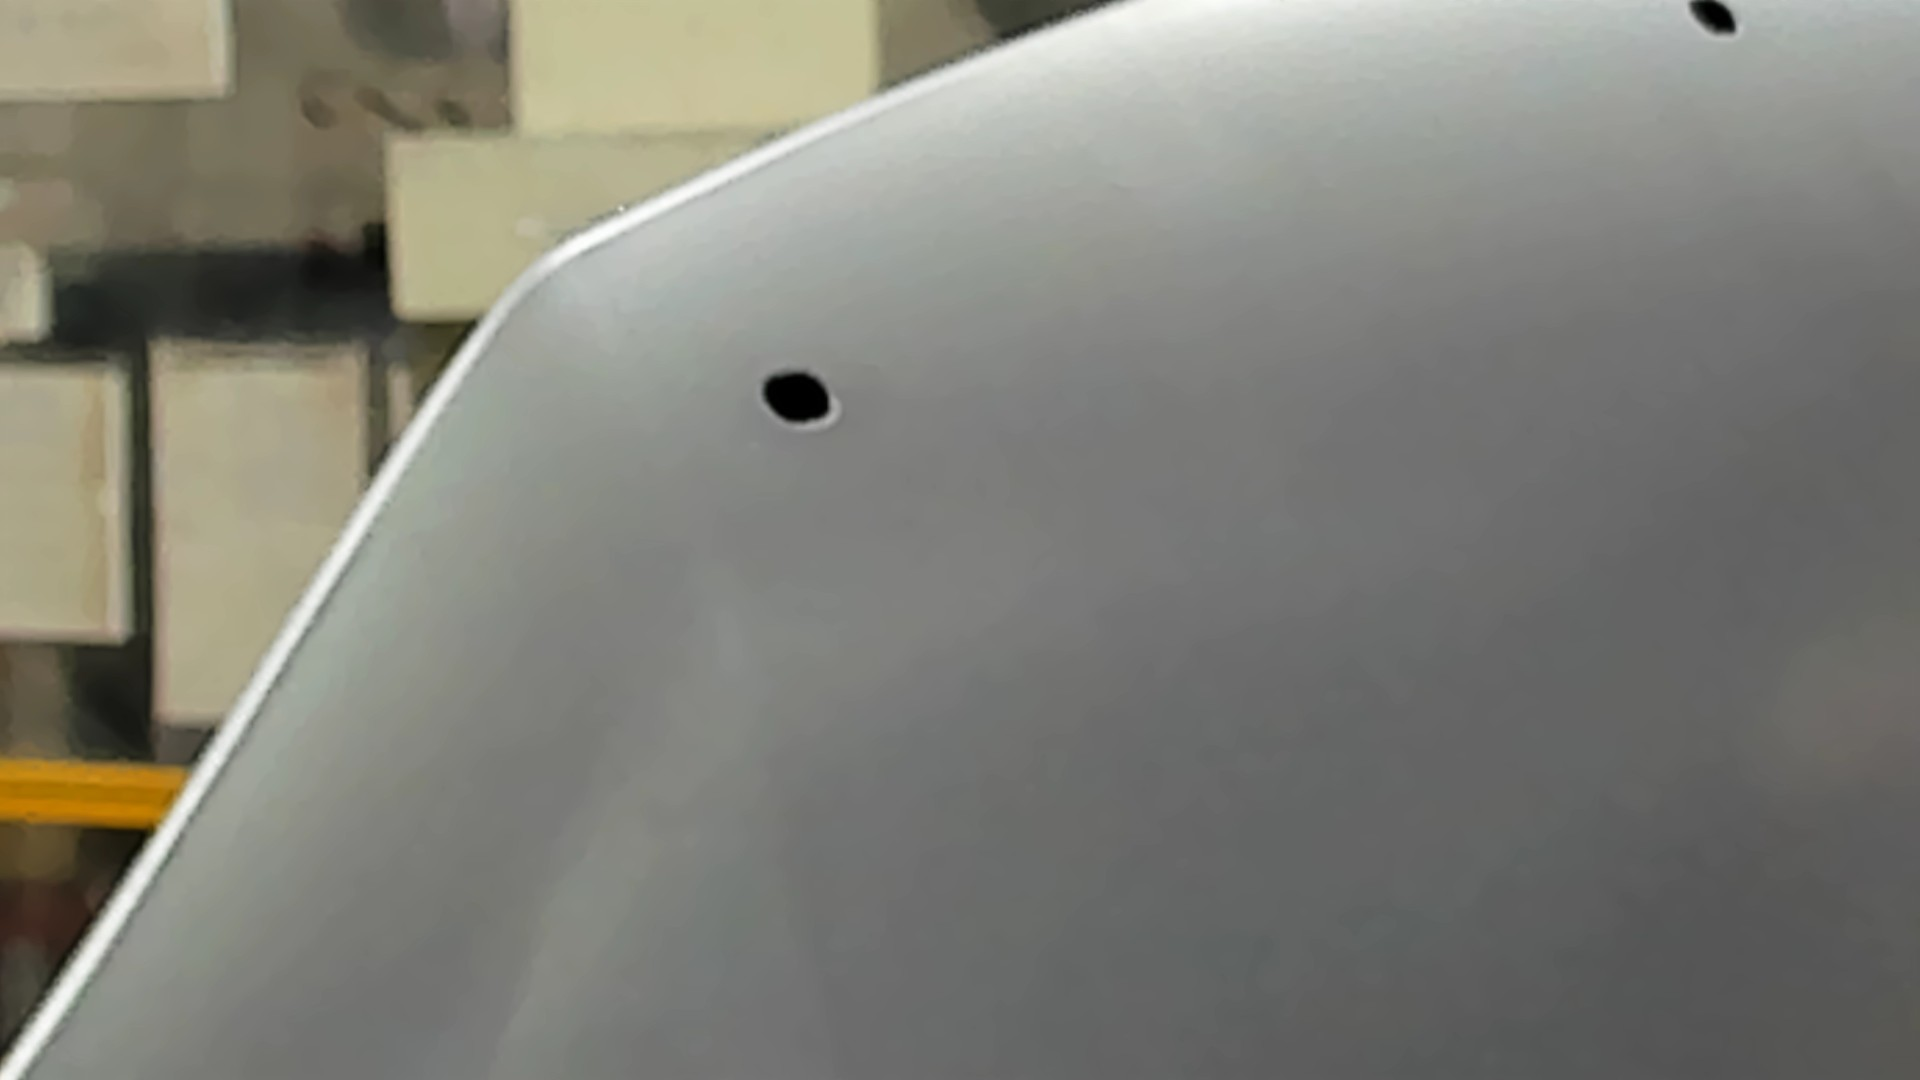amorfo: (752, 364, 847, 440), (1677, 1, 1750, 50)
